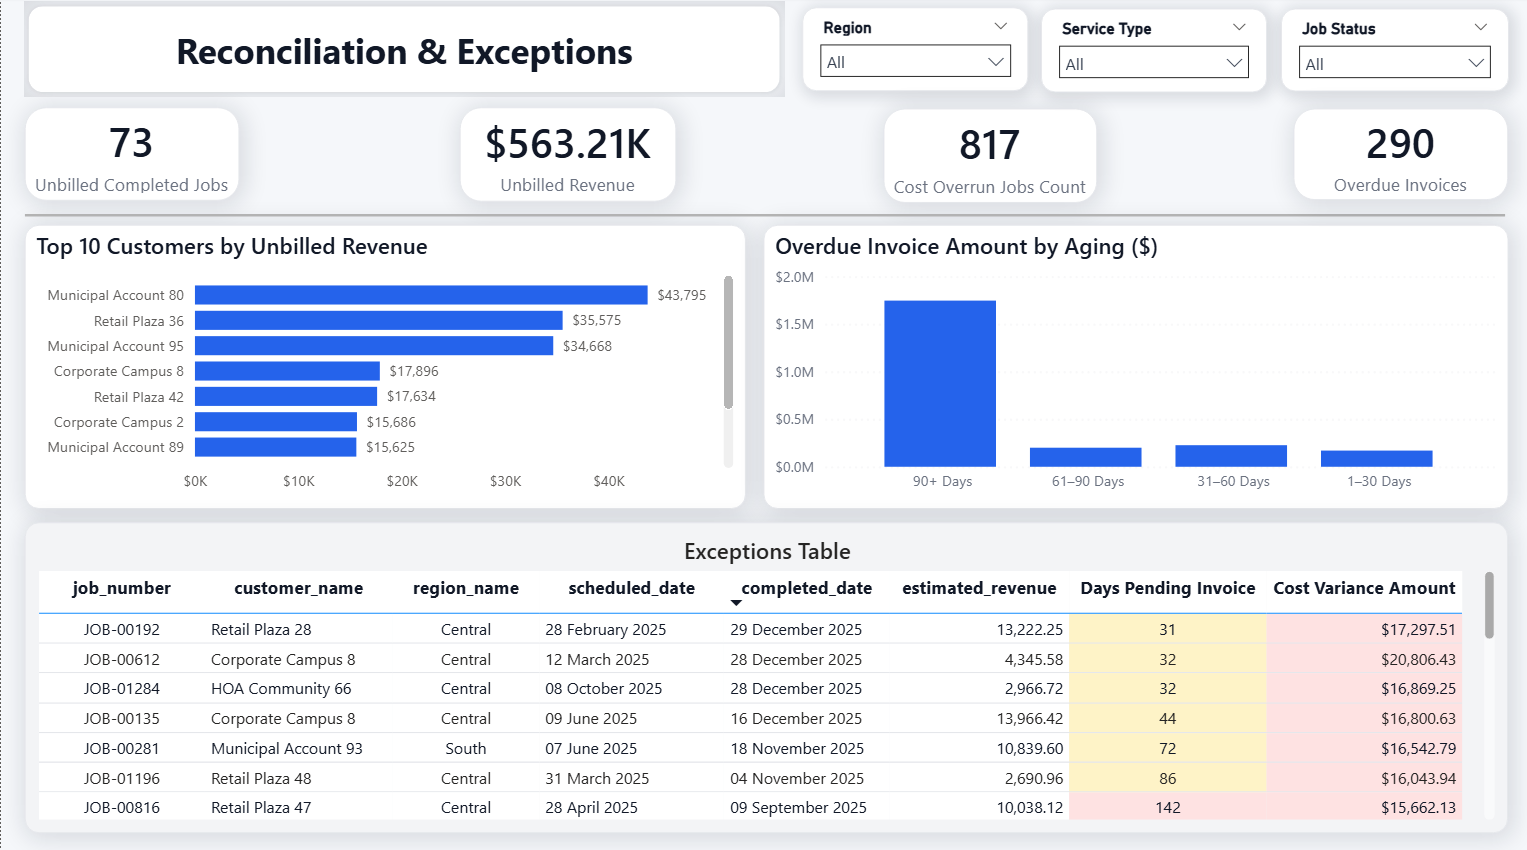

What the dashboard file says about the page in this screenshot:
{"tool":"powerbi","page":{"name":"Reconciliation/Exceptions","canvas":[1280,720],"ordinal":3},"visuals":[{"type":"slicer","fields":{"Values":["dim_region.region_name"]},"box":[672,9.4,189.8,70.2],"z":0},{"type":"card","title":"Total Invoiced Amount","fields":{"Values":["_Meaqsures.Unbilled Revenue Exposure"]},"box":[384.8,93,181.5,79.3],"z":1000},{"type":"card","title":"Total Invoiced Amount","fields":{"Values":["_Meaqsures.Cost Overrun Jobs Count"]},"box":[739.8,94.2,179.2,79.3],"z":2000},{"type":"card","title":"Total Invoiced Amount","fields":{"Values":["_Meaqsures.Unbilled Completed Jobs"]},"box":[19.8,93,180,78],"z":3000},{"type":"clusteredBarChart","title":"Top 10 Customers by Unbilled Revenue","fields":{"Category":["customers.customer_name"],"Y":["_Meaqsures.Unbilled Revenue Exposure"]},"box":[19.8,191.9,604.7,238.4],"z":5000},{"type":"clusteredColumnChart","title":"Overdue Invoice Amount by Aging ($)","fields":{"Category":["invoices.Aging Bucket"],"Y":["_Meaqsures.Overdue Outstanding"]},"box":[639.5,191.9,624.4,238.4],"z":6000},{"type":"slicer","fields":{"Values":["dim_service_type.service_name"]},"box":[871.9,10.3,189.5,70.1],"z":7000},{"type":"slicer","fields":{"Values":["dim_invoice_status.status_code"]},"box":[1073.1,10.4,190.9,69.6],"z":8000},{"type":"shape","box":[18.9,4.2,638.4,80.7],"z":9000},{"type":"shape","box":[19.8,147.7,1241.9,72.1],"z":10000},{"type":"tableEx","title":"Exceptions Table","fields":{"Values":["jobs.job_number","customers.customer_name","dim_region.region_name","jobs.scheduled_date","jobs.completed_date","jobs.estimated_revenue","jobs.Days Pending Invoice","_Meaqsures.Cost Variance Amount"]},"box":[19.5,441.1,1244,260.8],"z":12000},{"type":"card","title":"Total Invoiced Amount","fields":{"Values":["_Meaqsures.Overdue Invoices"]},"box":[1084.4,94.2,180.3,77],"z":13000}]}

Visuals, with their boxes in screenshot pixels (x1, y1, x2, y2), scaled from the page's 1280x720 canvas onto the 1527x850 screenshot:
slicer - dim_region.region_name: (802, 11, 1028, 94)
"Total Invoiced Amount" card: (459, 110, 676, 203)
"Total Invoiced Amount" card: (883, 111, 1096, 205)
"Total Invoiced Amount" card: (24, 110, 238, 202)
"Top 10 Customers by Unbilled Revenue" clusteredBarChart: (24, 227, 745, 508)
"Overdue Invoice Amount by Aging ($)" clusteredColumnChart: (763, 227, 1508, 508)
slicer - dim_service_type.service_name: (1040, 12, 1266, 95)
slicer - dim_invoice_status.status_code: (1280, 12, 1508, 94)
shape: (23, 5, 784, 100)
shape: (24, 174, 1505, 259)
"Exceptions Table" tableEx: (23, 521, 1507, 829)
"Total Invoiced Amount" card: (1294, 111, 1509, 202)
